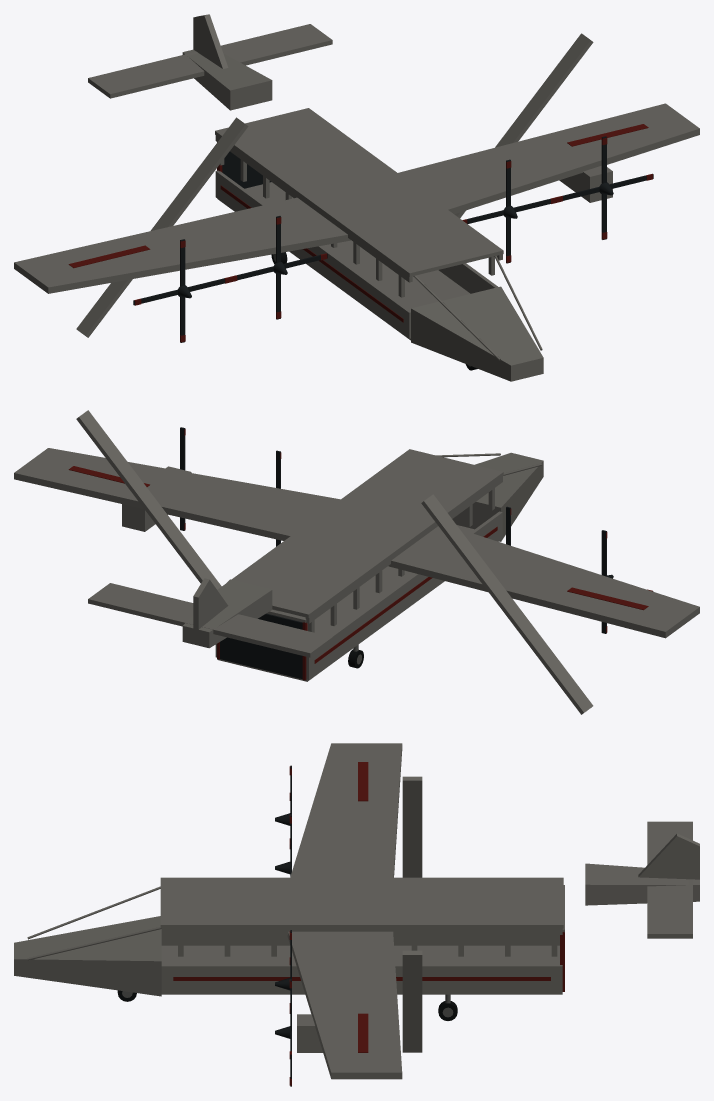
3 renders of one model, top to bottom at view 1: azimuth 30°, elevation 25°; view 2: azimuth 150°, elevation 25°; view 3: azimuth 270°, elevation 25°, orthographic. The views are drawn at different scales.
Parts seen in each view (by area): view 1: troop-plane-painted, transport-roof-painted, flap--1-painted, flap-1-painted, propeller-1-11-painted, propeller--1-11-painted, propeller--1-6-painted, propeller-1-6-painted, transport-ramp-painted; view 2: troop-plane-painted, transport-roof-painted, flap--1-painted, flap-1-painted, transport-ramp-painted; view 3: troop-plane-painted, transport-roof-painted, flap-1-painted, flap--1-painted.
Boxes of the visible parts, x1=… form: troop-plane-painted: x1=14, y1=14, x2=699, y2=381; transport-roof-painted: x1=215, y1=108, x2=503, y2=297; flap--1-painted: x1=76, y1=117, x2=248, y2=337; flap-1-painted: x1=454, y1=33, x2=593, y2=218; propeller-1-11-painted: x1=556, y1=136, x2=653, y2=239; propeller--1-11-painted: x1=133, y1=239, x2=231, y2=342; propeller--1-6-painted: x1=230, y1=216, x2=327, y2=319; propeller-1-6-painted: x1=462, y1=159, x2=557, y2=263; transport-ramp-painted: x1=222, y1=151, x2=271, y2=188; troop-plane-painted: x1=14, y1=448, x2=699, y2=681; transport-roof-painted: x1=217, y1=449, x2=503, y2=632; flap--1-painted: x1=421, y1=494, x2=593, y2=714; flap-1-painted: x1=76, y1=410, x2=221, y2=589; transport-ramp-painted: x1=220, y1=613, x2=302, y2=679; troop-plane-painted: x1=14, y1=743, x2=699, y2=1079; transport-roof-painted: x1=160, y1=877, x2=563, y2=956; flap-1-painted: x1=402, y1=950, x2=422, y2=1052; flap--1-painted: x1=402, y1=776, x2=422, y2=877.
Size of the model in its own units: 179 by 46.12 by 158.
